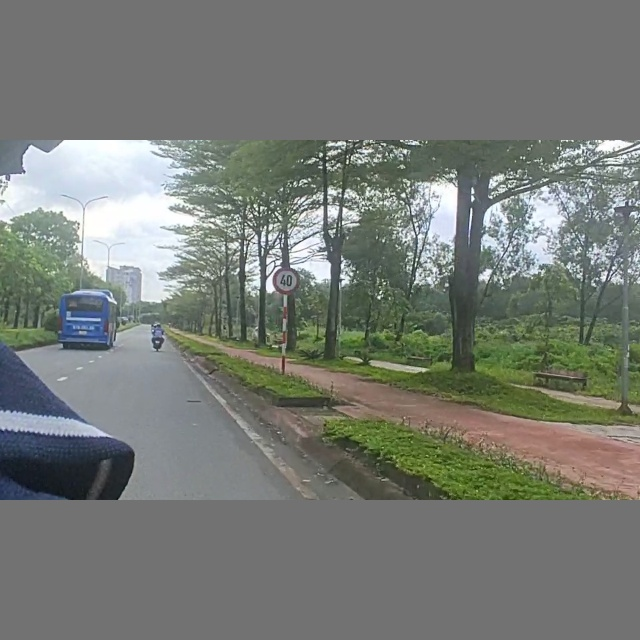P.127*40: (271, 265, 303, 294)
